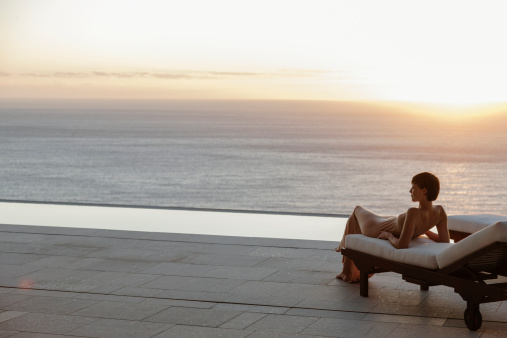deitado: (359, 158, 490, 263)
